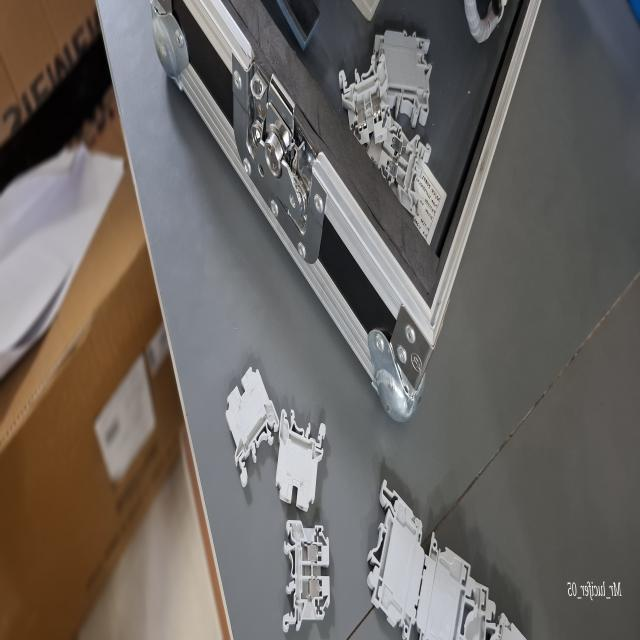Inverted: (225, 364, 280, 492), (274, 407, 326, 512)
Pass: (280, 516, 332, 634), (336, 52, 392, 146)
